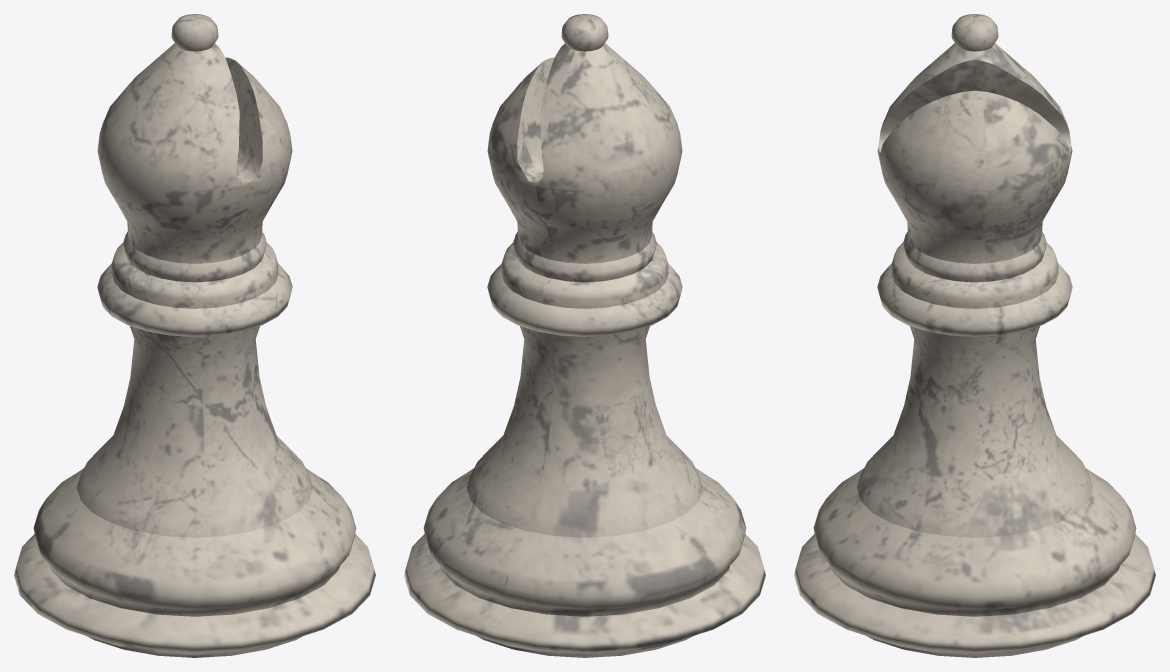
The model's file is mermer_b_w.glb.
The picture shows the model from 3 angles, left to right: view 1: azimuth 30°, elevation 25°; view 2: azimuth 150°, elevation 25°; view 3: azimuth 270°, elevation 25°; orthographic projection.
Parts seen in each view (by area): view 1: SM_Bishop; view 2: SM_Bishop; view 3: SM_Bishop.
Part boxes in pixels (x1,y1,x2,y2): SM_Bishop: [14, 14, 375, 657]; SM_Bishop: [404, 14, 765, 657]; SM_Bishop: [794, 14, 1155, 657].
Size of the model in its own units: 3.72 by 6.54 by 3.7.
Materials: 1 (1 with a texture image).
